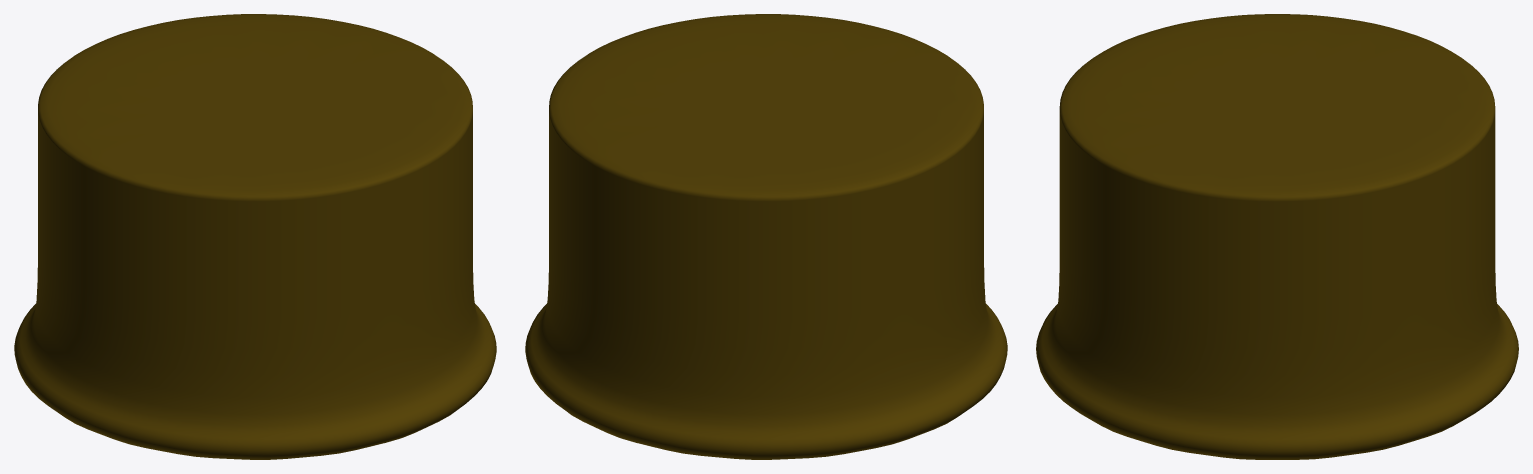
File: Stump.fbx
3 renders of one model, left to right at view 1: azimuth 30°, elevation 25°; view 2: azimuth 150°, elevation 25°; view 3: azimuth 270°, elevation 25°, orthographic.
Visible parts, largest first — view 1: pCylinder2; view 2: pCylinder2; view 3: pCylinder2.
Boxes of the visible parts, x1,y1,x2,y2 form: pCylinder2: (14,14,496,459); pCylinder2: (525,14,1007,459); pCylinder2: (1036,14,1518,459).
Size of the model in its own units: 3.3 by 2.05 by 3.3.
